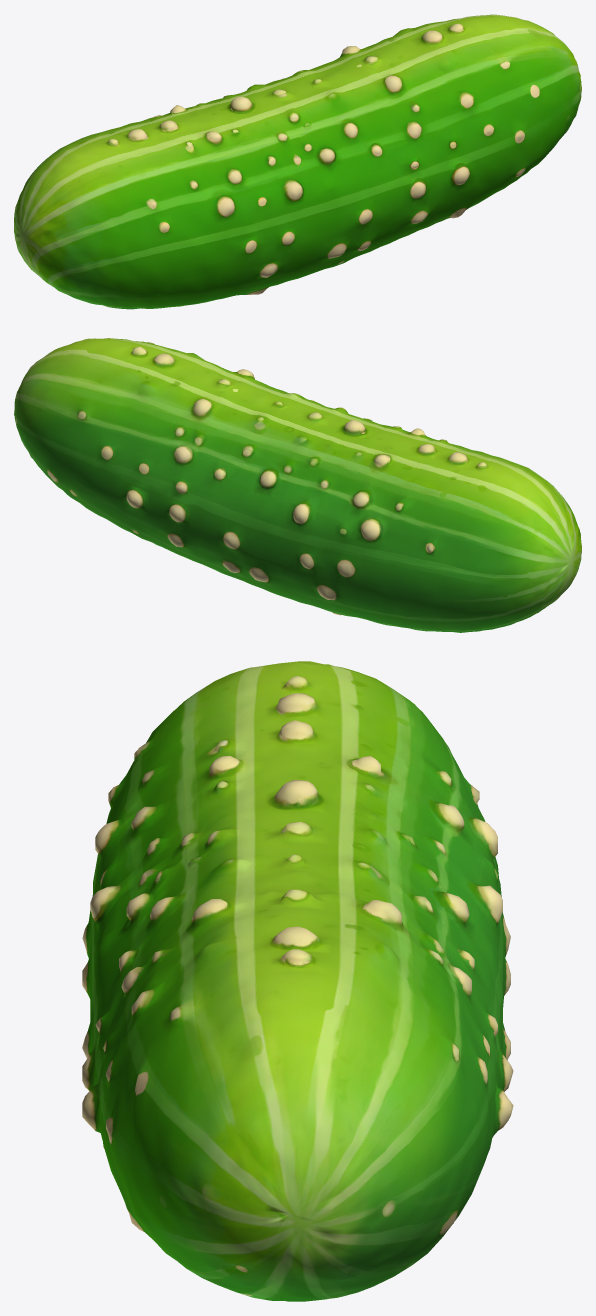
File: Cucumber.fbx
3 renders of one model, top to bottom at view 1: azimuth 30°, elevation 25°; view 2: azimuth 150°, elevation 25°; view 3: azimuth 270°, elevation 25°, orthographic. The views are drawn at different scales.
Parts seen in each view (by area): view 1: cucumber; view 2: cucumber; view 3: cucumber.
Boxes of the visible parts, box(x1,y1,x2,y2) form: cucumber: box(14, 14, 581, 309); cucumber: box(14, 338, 581, 632); cucumber: box(82, 661, 513, 1301).
Bounding box in the file's own units: 40 × 14.21 × 13.63.
1 material, 1 textured.
